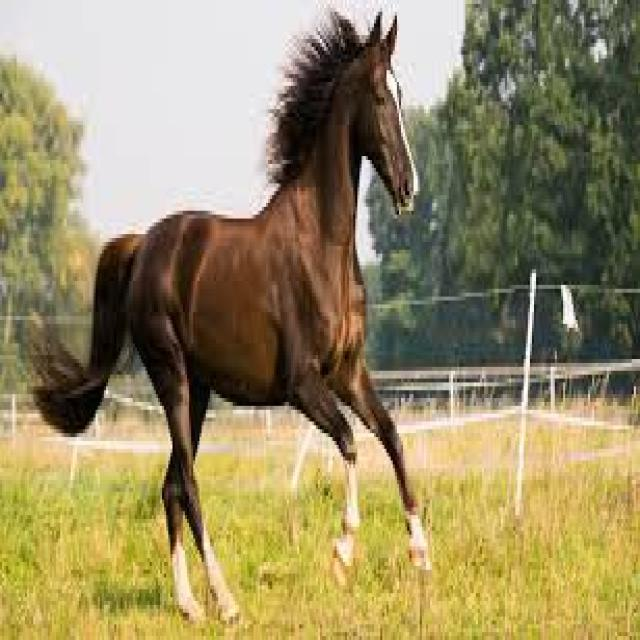Horse: (70, 8, 425, 606)
